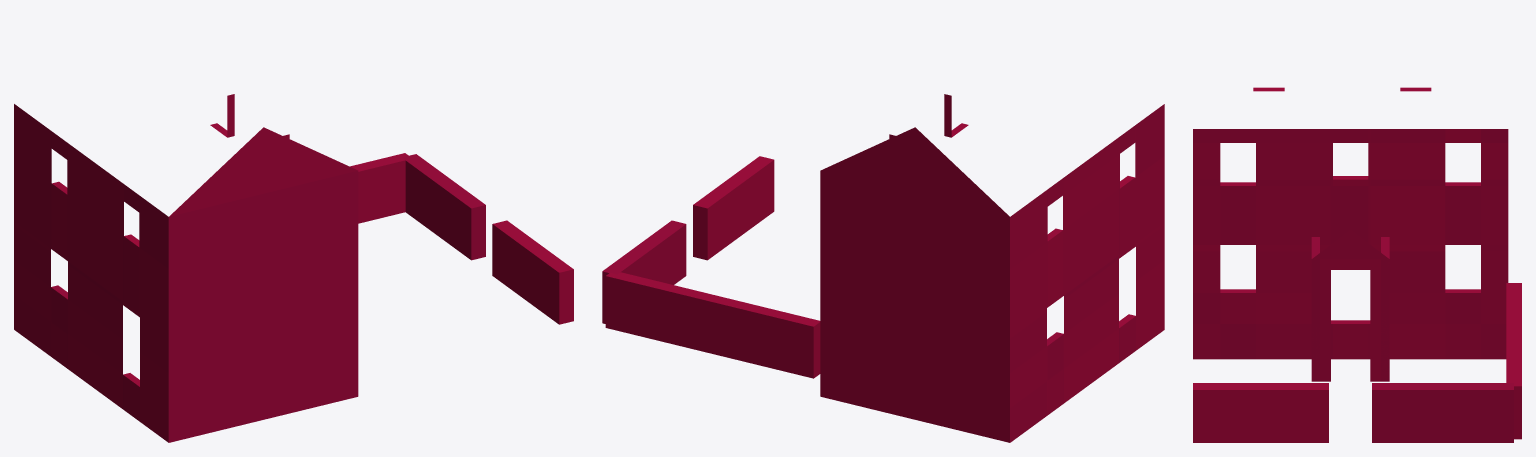
Rendered from SM_Bld_091_Masonry.glb.
3 renders of one model, left to right at view 1: azimuth 30°, elevation 25°; view 2: azimuth 150°, elevation 25°; view 3: azimuth 270°, elevation 25°, orthographic.
Visible parts, largest first — view 1: SM_Bld_091_Masonry; view 2: SM_Bld_091_Masonry; view 3: SM_Bld_091_Masonry.
Part boxes in pixels (left/top/right/bottom): SM_Bld_091_Masonry: left=14, top=94, right=573, bottom=442; SM_Bld_091_Masonry: left=602, top=94, right=1164, bottom=442; SM_Bld_091_Masonry: left=1193, top=87, right=1521, bottom=442.
Size of the model in its own units: 12.19 by 8.41 by 8.41.
